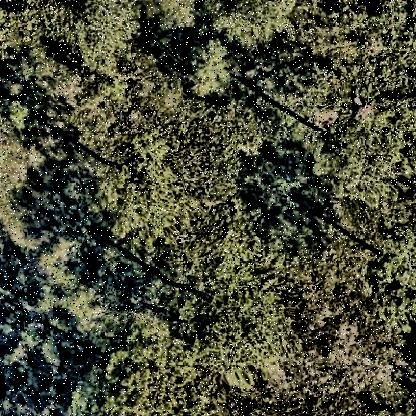tree-top: (181, 270, 301, 386), (84, 316, 204, 416), (308, 103, 416, 203), (103, 141, 199, 242), (71, 2, 141, 78), (201, 1, 301, 50), (179, 36, 236, 100)
